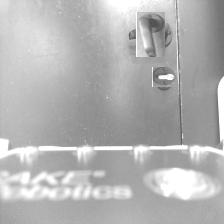Door Handle: (132, 16, 170, 53)
Lock: (154, 66, 176, 89)
